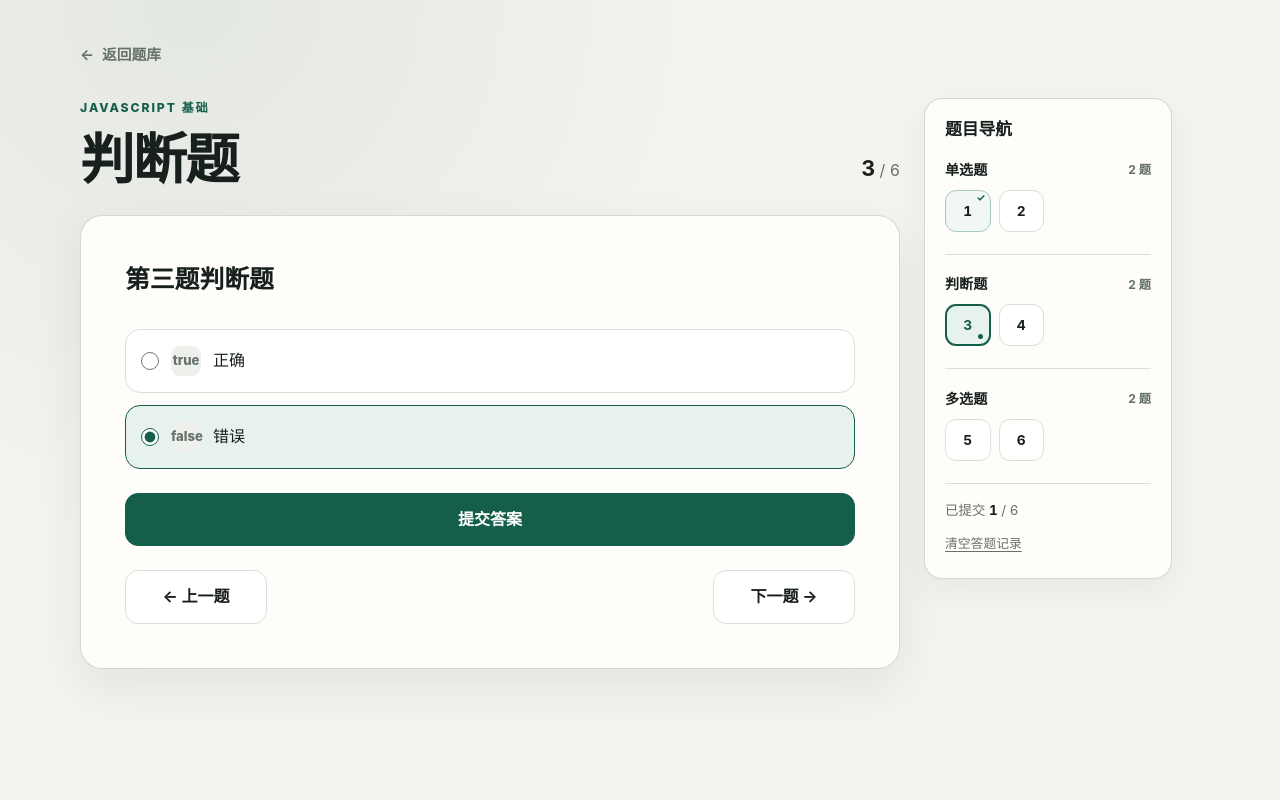
PracticePage › clears only the current bank after confirmation and returns to the first question
Expected: the text "第三题判断题" is shown, [125,264,274,294]
Click the button "清空答题记录".
click(983, 544)  # box [945,531,1022,558]
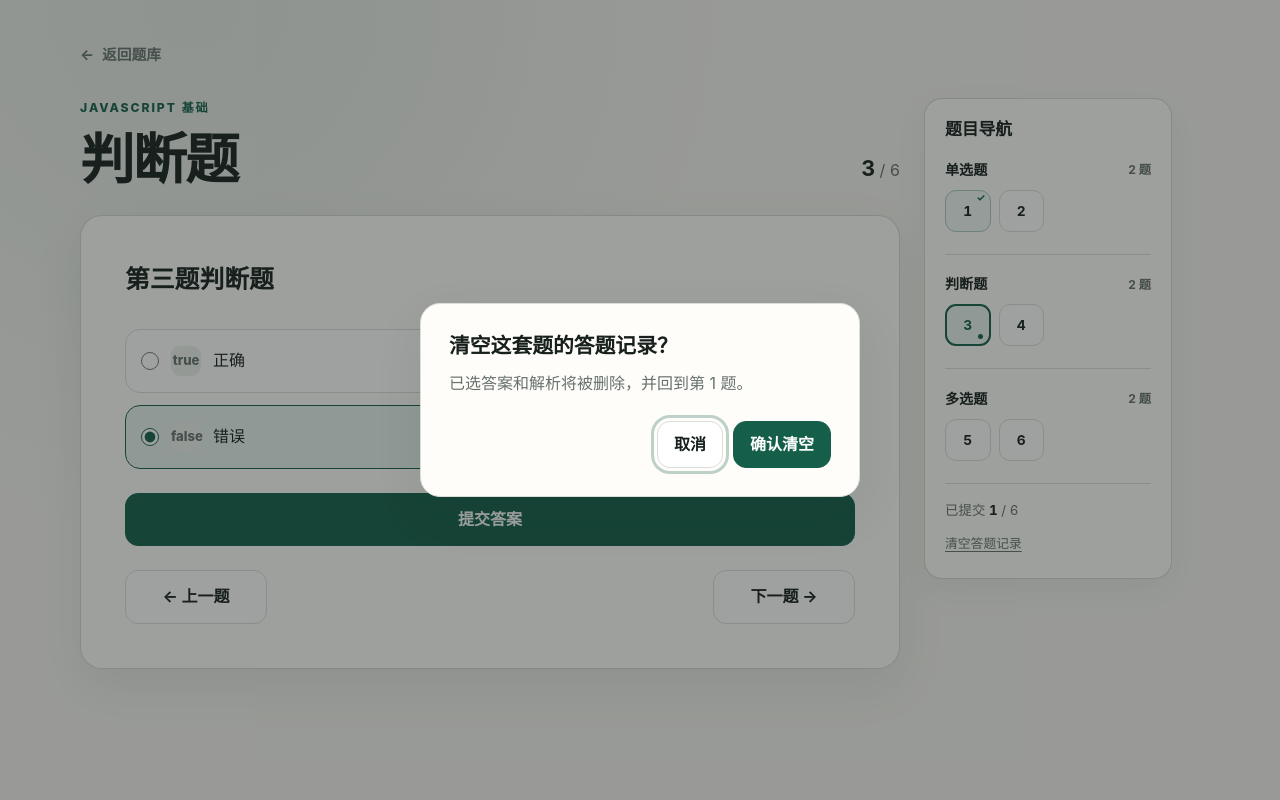
Click the button "确认清空".
click(782, 444)  # box [733,420,831,468]
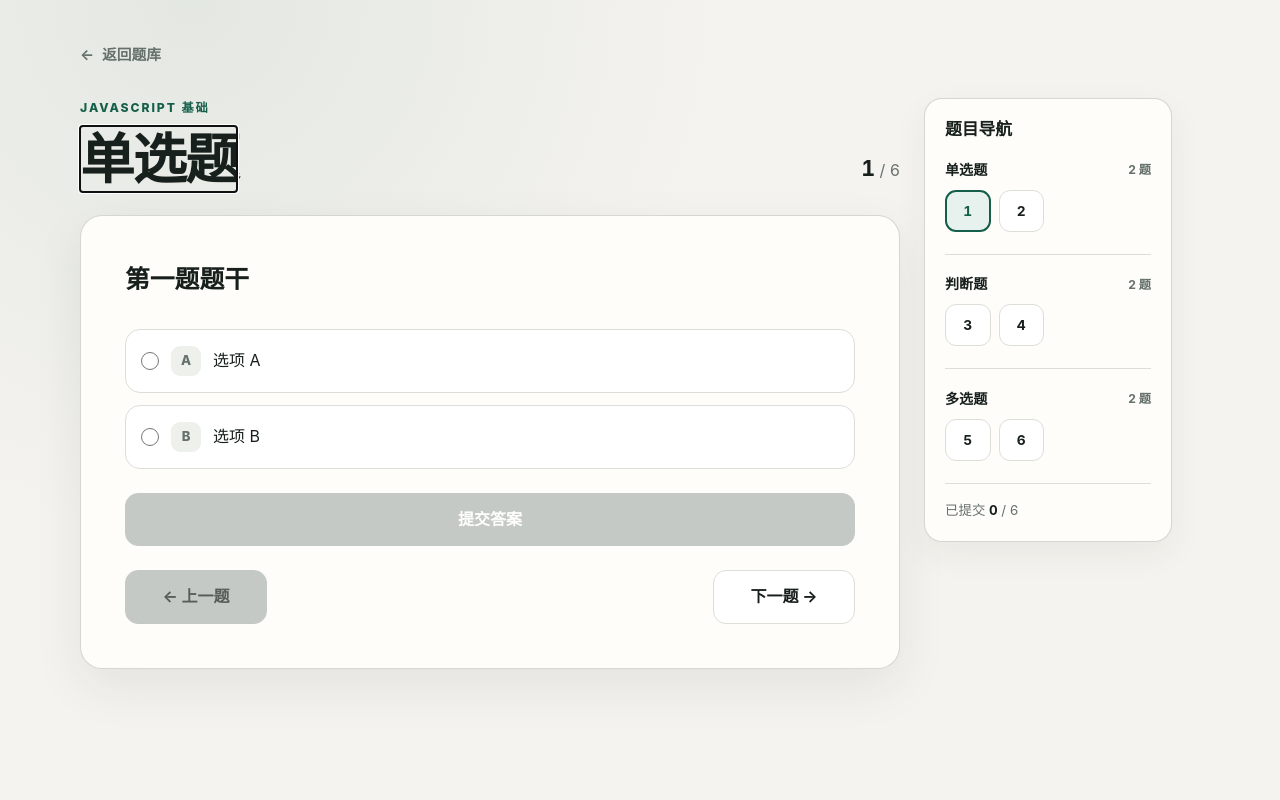
Expected: the text "第一题题干" is shown, [125,264,249,294]
